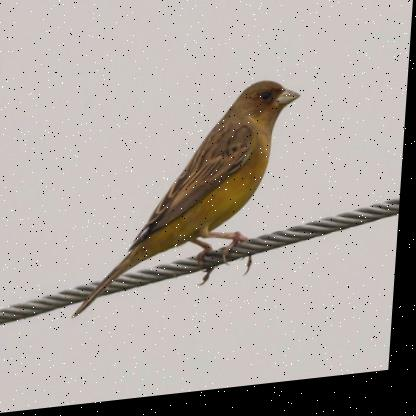Burung: (74, 80, 306, 325)
